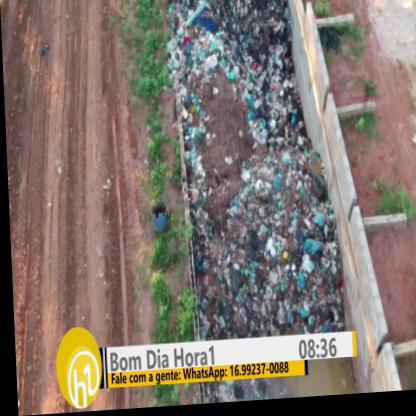lixo: (181, 0, 298, 340)
